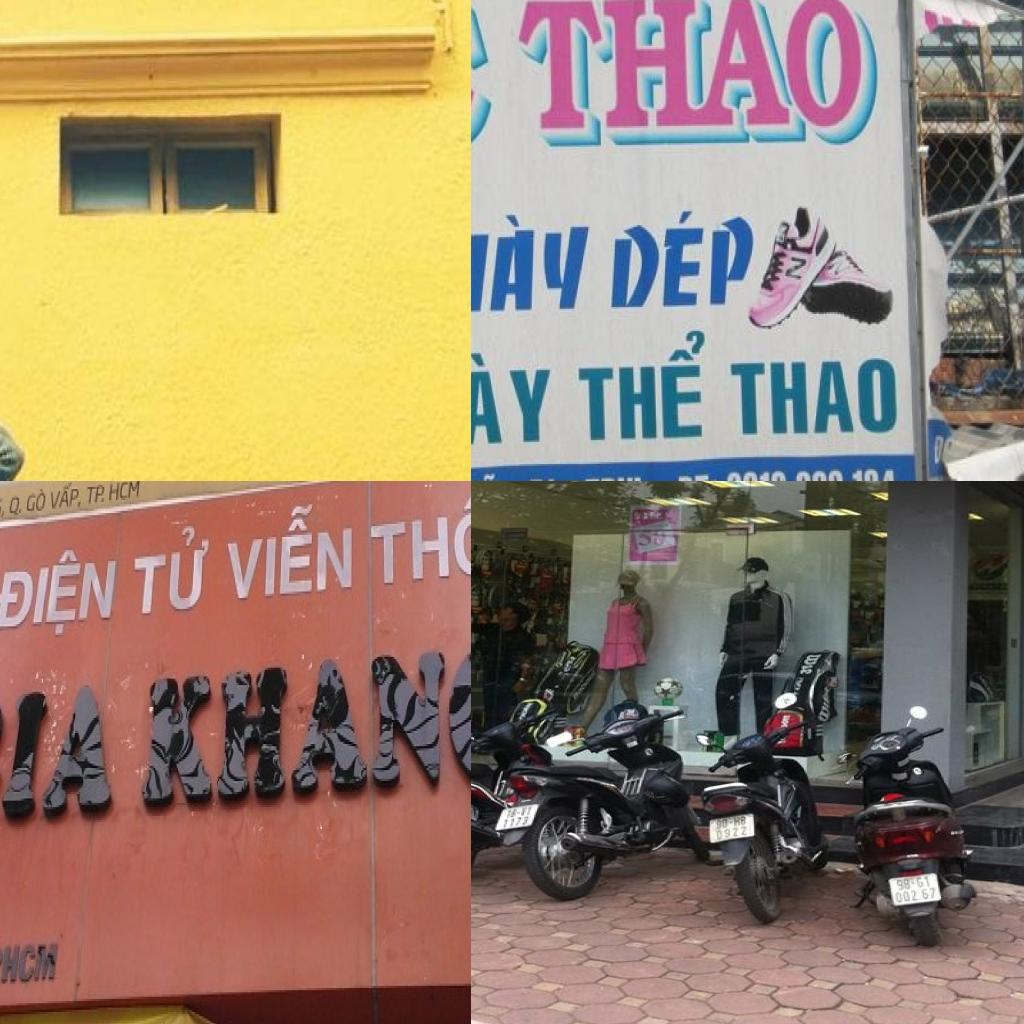text: (133, 630, 471, 822), (517, 0, 871, 148), (0, 674, 123, 844), (224, 485, 360, 611), (610, 210, 756, 312), (578, 331, 707, 445), (730, 356, 898, 438), (471, 214, 594, 317), (0, 541, 124, 643), (364, 481, 471, 593), (134, 516, 214, 626), (471, 351, 554, 451), (86, 481, 144, 510), (49, 481, 87, 517), (24, 481, 48, 521), (894, 886, 938, 904), (895, 874, 934, 892), (634, 529, 668, 548), (8, 487, 24, 522), (714, 826, 750, 840), (717, 815, 748, 830), (800, 654, 822, 674), (503, 816, 534, 828), (817, 701, 832, 724), (0, 489, 7, 526)
